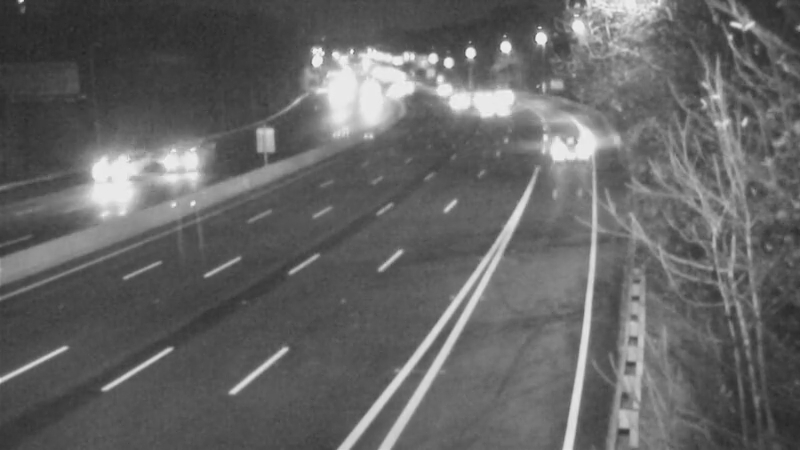vehicle: (527, 113, 607, 193), (69, 131, 149, 211), (144, 119, 224, 199), (483, 66, 533, 116), (459, 73, 509, 123), (427, 75, 477, 125), (467, 84, 517, 134)
